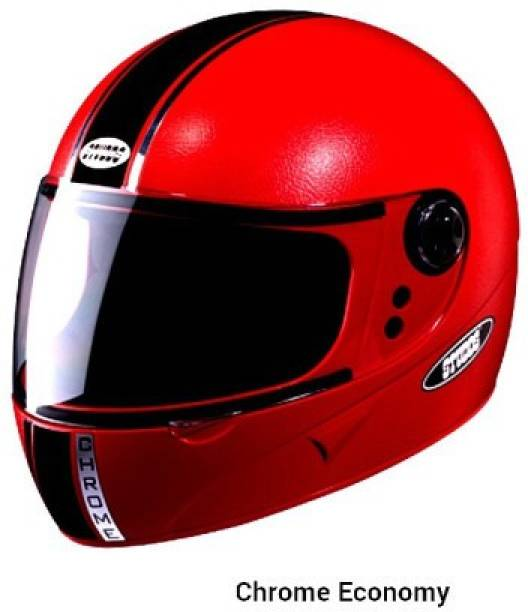with_helmet: (3, 5, 524, 556)
